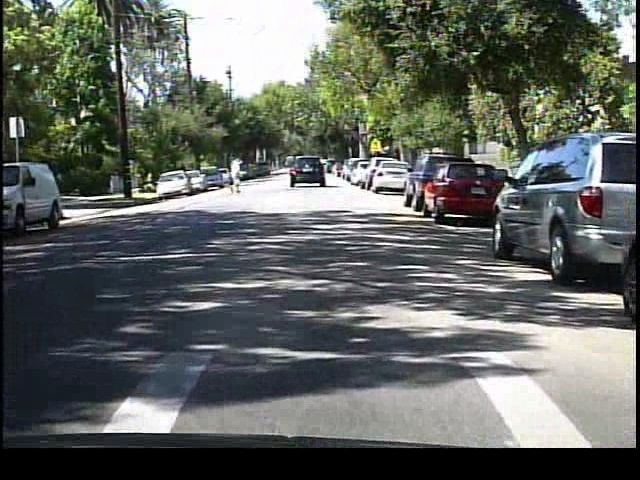person: (226, 152, 248, 195)
